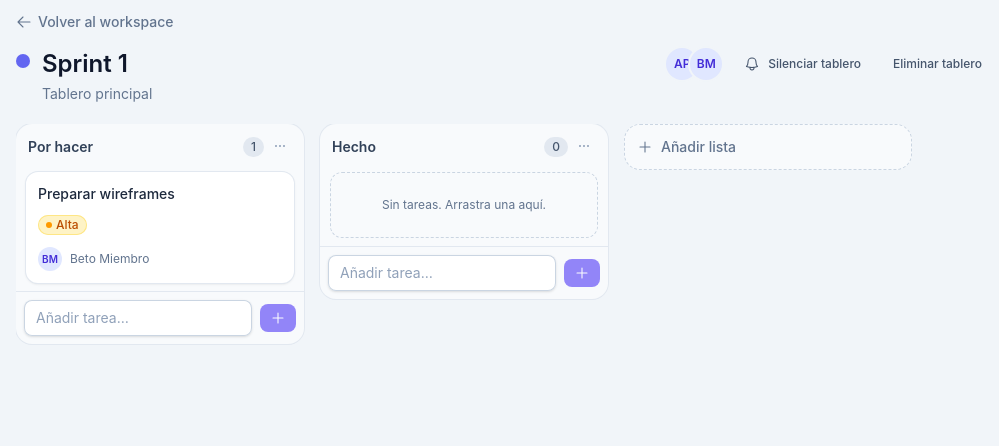
Scenario: BoardPage › adds a task to a list
expect the text "Preparar wireframes" is shown: met, box [38,185,175,202]
Type "Nueva tarea" into the 2nd field with placeholder "Añadir tarea…" at point(138, 318), box [24,300,252,336]
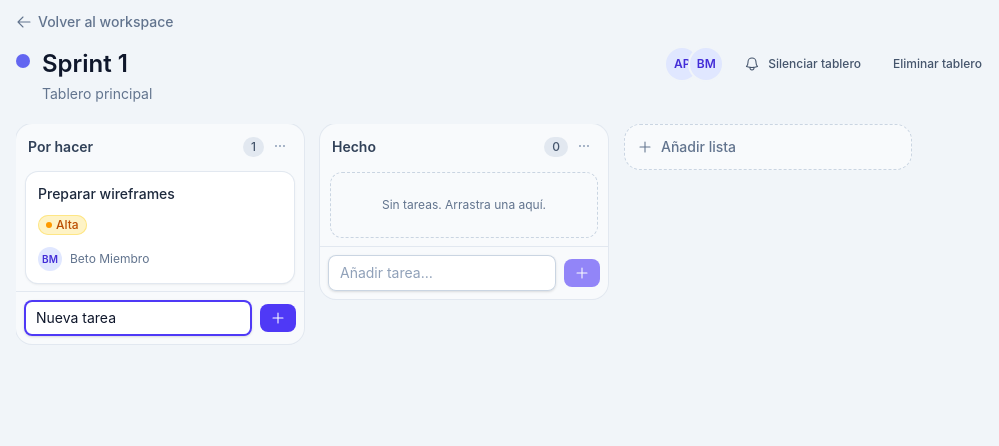
Click the 2nd button named "Añadir tarea" at point(278, 318), box [260,304,296,332]
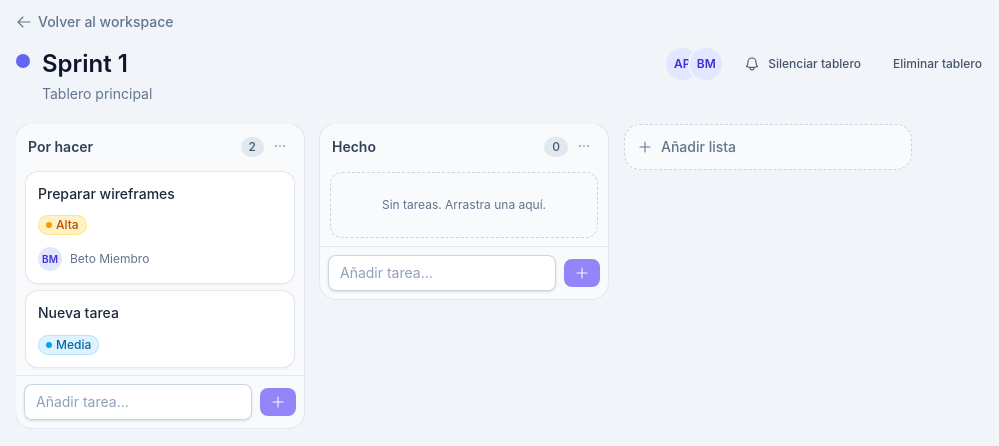
expect the text "Nueva tarea" is shown: met, box [38,304,119,321]
